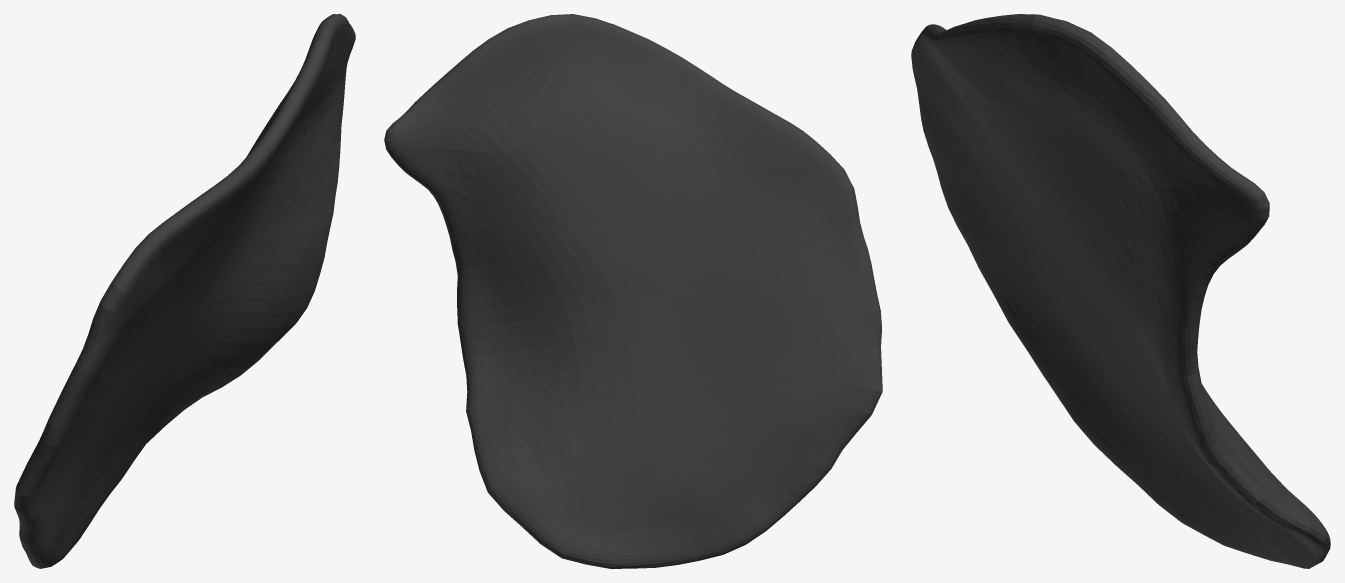
Rendered from WINDOW_cochlear_L.glb.
3 renders of one model, left to right at view 1: azimuth 30°, elevation 25°; view 2: azimuth 150°, elevation 25°; view 3: azimuth 270°, elevation 25°, orthographic. The views are drawn at different scales.
Visible parts, largest first — view 1: WINDOW_cochlear_L; view 2: WINDOW_cochlear_L; view 3: WINDOW_cochlear_L.
Boxes of the visible parts, x1,y1,x2,y2 form: WINDOW_cochlear_L: (14, 14, 355, 568); WINDOW_cochlear_L: (384, 14, 882, 568); WINDOW_cochlear_L: (911, 14, 1330, 568).
Bounding box in the file's own units: 0.8718 × 0.9793 × 0.5866.
1 material, 1 textured.
